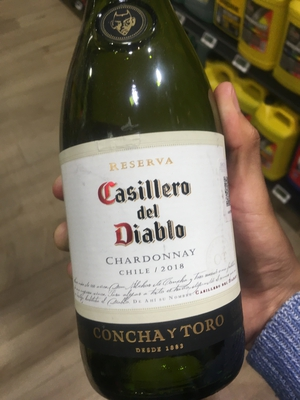casillero del diablo chardonnay: (58, 18, 247, 400)
